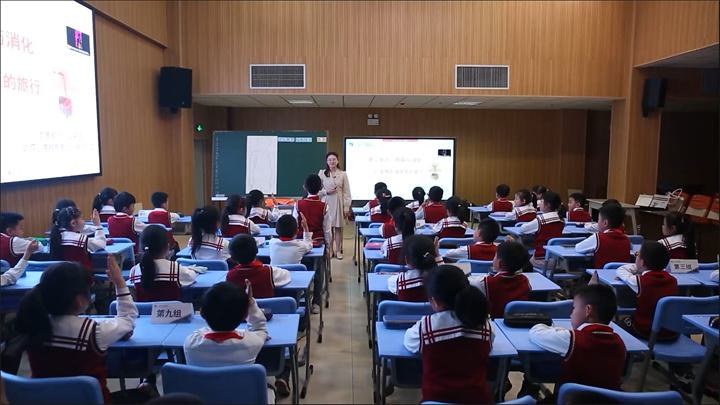hands-up: (38, 255, 129, 357), (195, 274, 279, 370), (549, 263, 612, 364), (480, 233, 529, 304), (386, 232, 443, 286), (271, 214, 320, 271), (56, 206, 105, 256), (247, 186, 279, 223)
listen: (623, 239, 667, 316), (586, 208, 636, 262), (137, 225, 183, 281), (660, 205, 699, 264), (530, 192, 565, 248), (386, 210, 423, 257), (189, 210, 224, 259), (224, 196, 257, 239), (441, 196, 473, 237), (146, 190, 181, 224), (90, 184, 119, 224), (511, 187, 534, 225), (423, 186, 446, 224), (567, 191, 592, 223), (488, 180, 511, 214), (372, 190, 395, 218), (407, 187, 425, 209)
stand: (290, 172, 334, 248)
